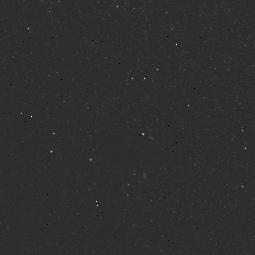proba_3_ocs: (111, 108, 169, 184)
